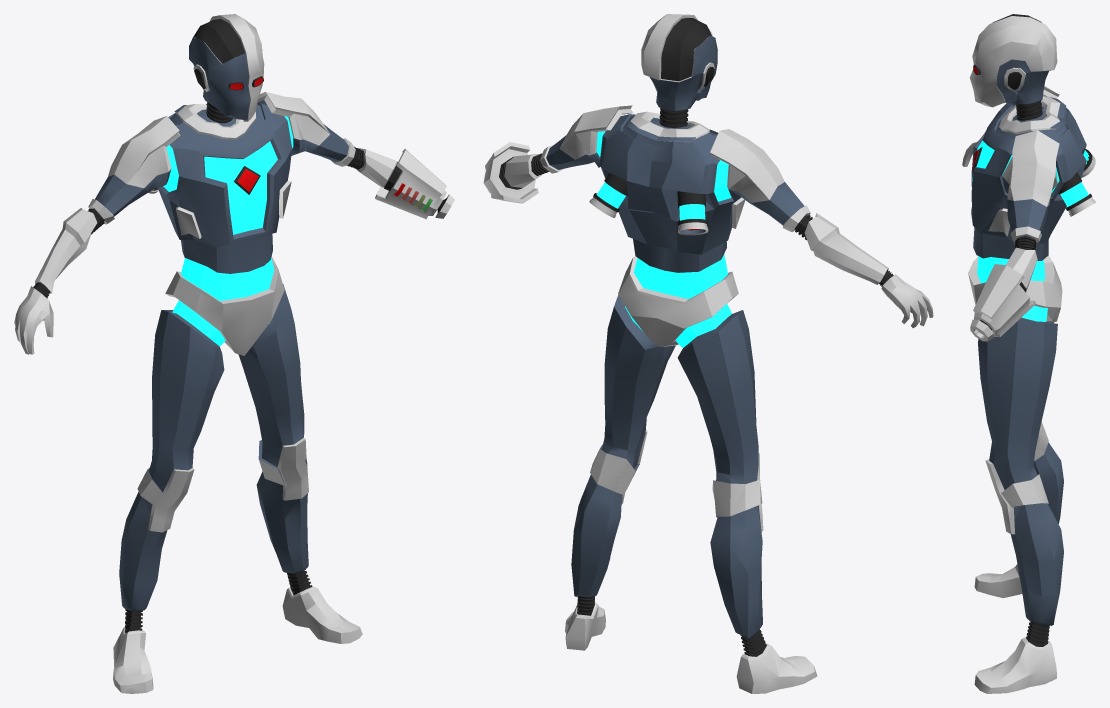
The model's file is CyborgModel.fbx.
3 renders of one model, left to right at view 1: azimuth 30°, elevation 25°; view 2: azimuth 150°, elevation 25°; view 3: azimuth 270°, elevation 25°, orthographic. The views are drawn at different scales.
Visible parts, largest first — view 1: Cyborg; view 2: Cyborg; view 3: Cyborg.
Boxes of the visible parts, x1=… form: Cyborg: x1=14, y1=14, x2=454, y2=693; Cyborg: x1=483, y1=14, x2=933, y2=693; Cyborg: x1=962, y1=14, x2=1095, y2=693.
Size of the model in its own units: 120 by 168 by 32.7.
